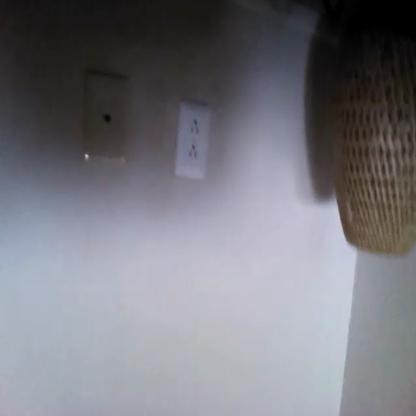OUTLET: (175, 105, 210, 180)
